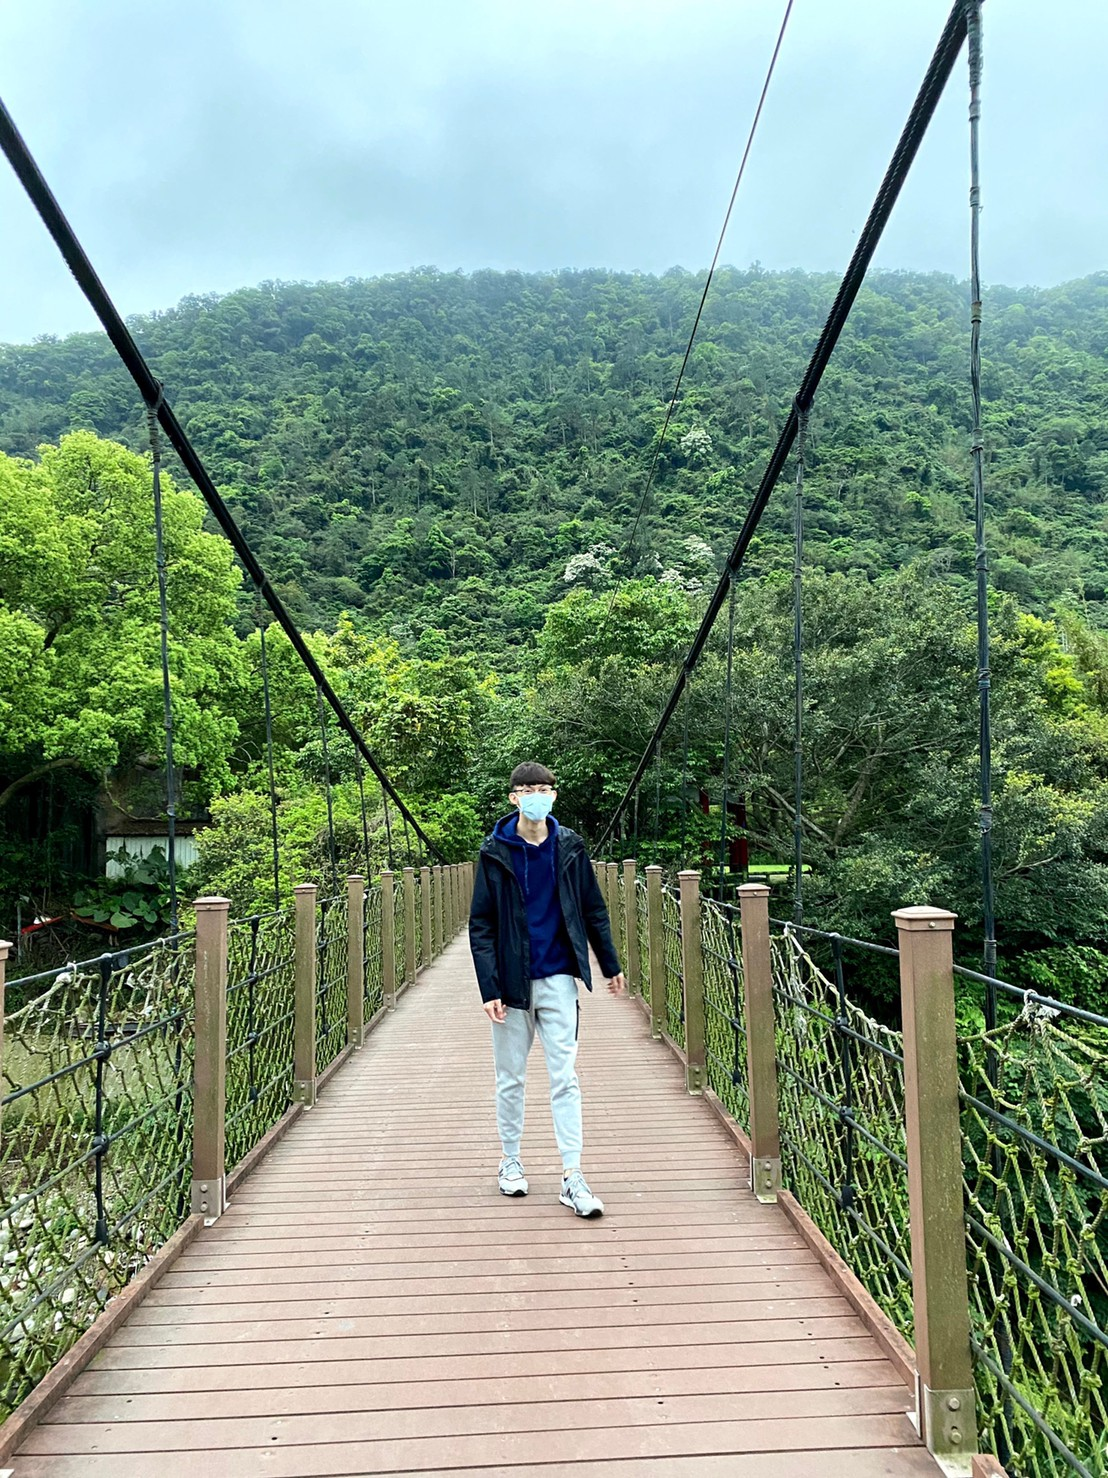people: (471, 757, 605, 1214)
